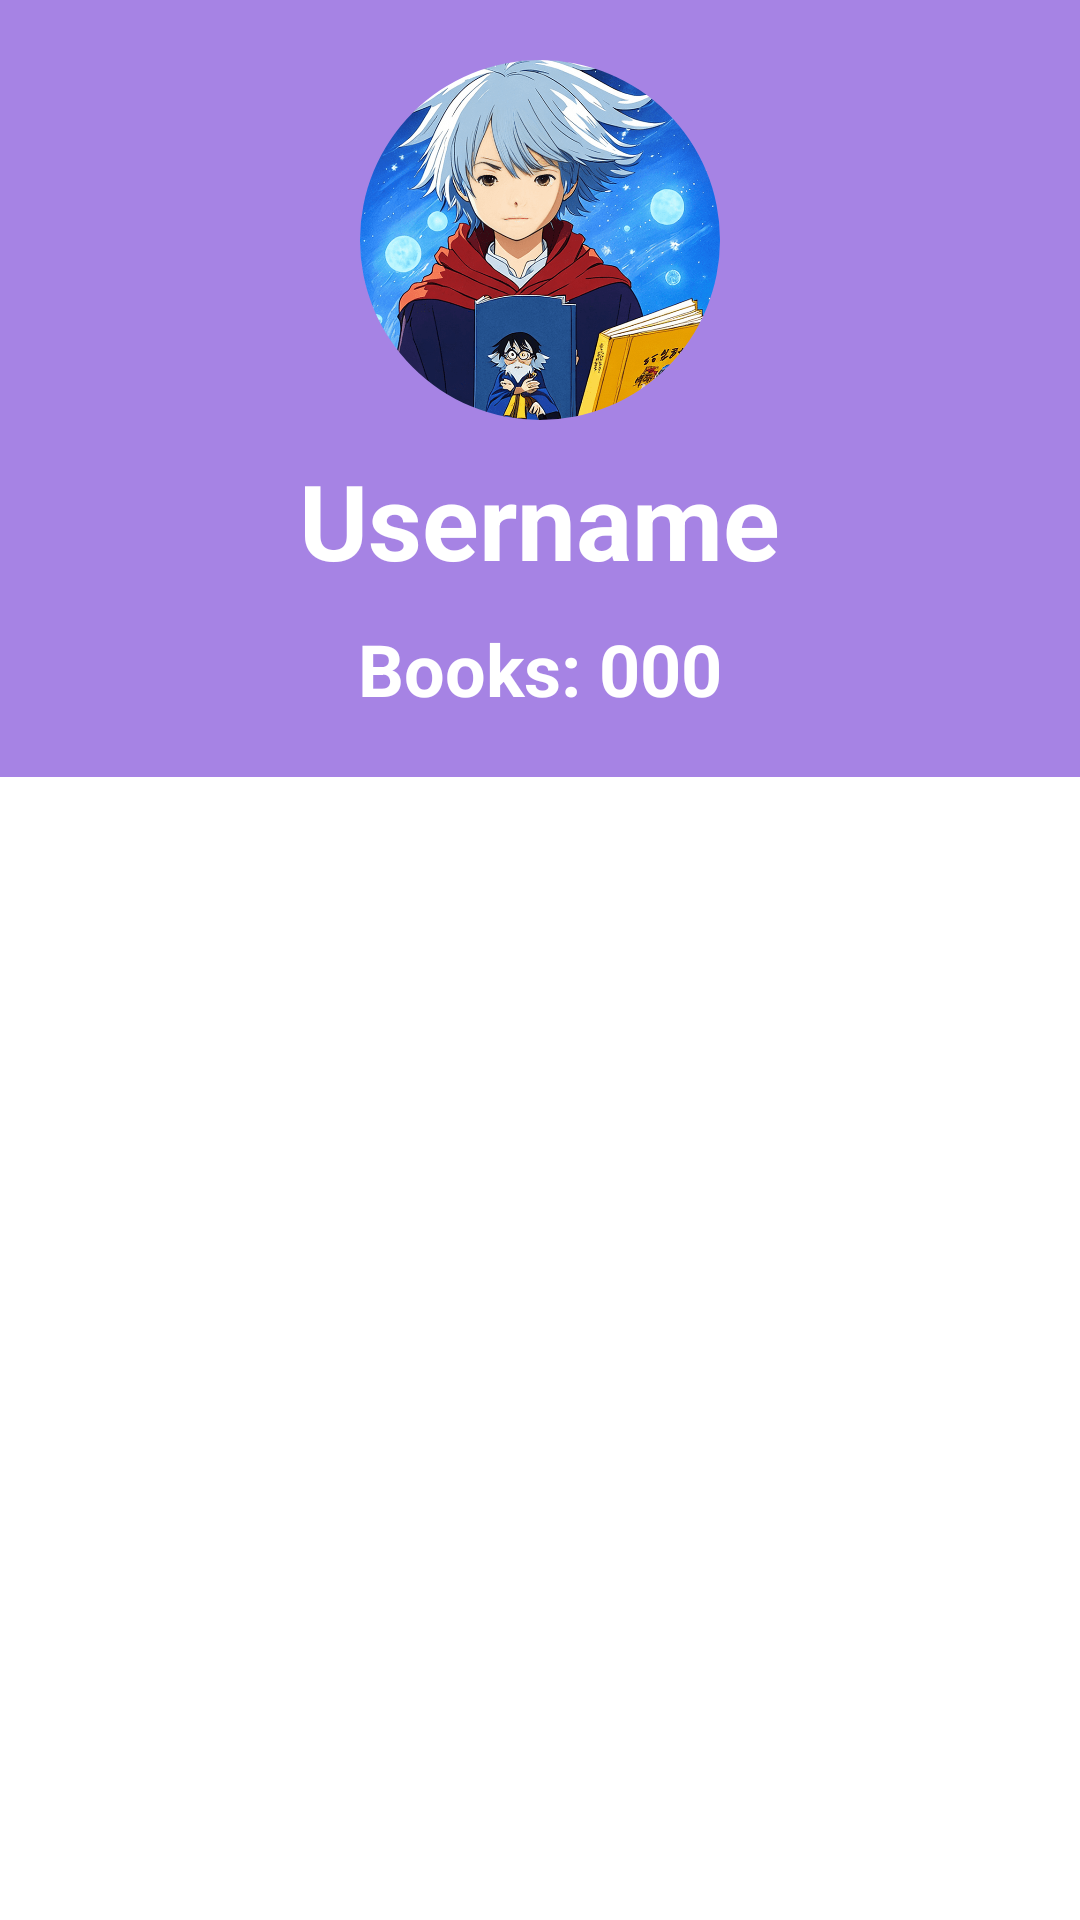

Icons on this 1080px x 1920px Android screen, each with its box as (x1, y1, x2, y2):
profile: (360, 60, 720, 420)
